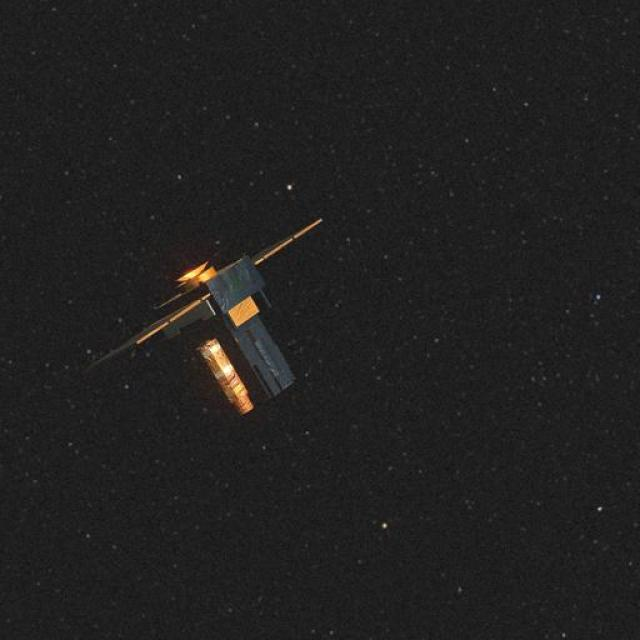soho: (87, 210, 335, 422)
